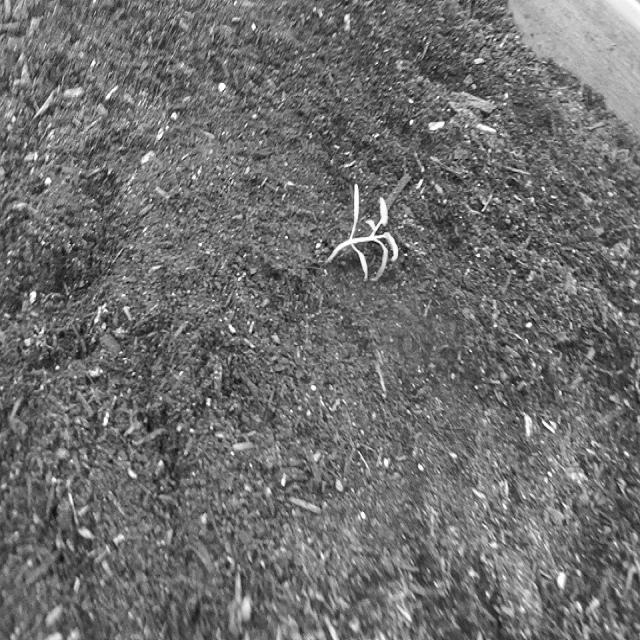Healthy: (324, 183, 401, 281)
